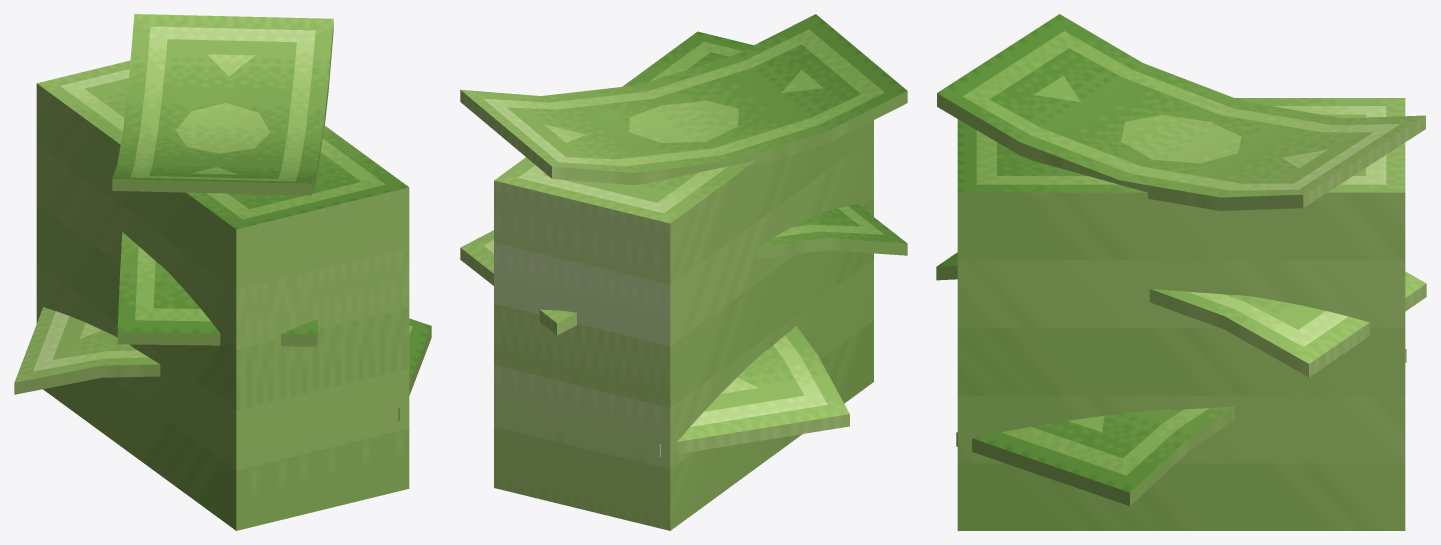
File: Money_Bills_Stack_Medium.gltf
The picture shows the model from 3 angles, left to right: view 1: azimuth 30°, elevation 25°; view 2: azimuth 150°, elevation 25°; view 3: azimuth 270°, elevation 25°; orthographic projection. The views are drawn at different scales.
Parts seen in each view (by area): view 1: Money_Bills_Stack_Medium; view 2: Money_Bills_Stack_Medium; view 3: Money_Bills_Stack_Medium.
Boxes of the visible parts, x1,y1,x2,y2 form: Money_Bills_Stack_Medium: [14, 14, 431, 530]; Money_Bills_Stack_Medium: [460, 14, 907, 530]; Money_Bills_Stack_Medium: [936, 14, 1426, 530].
Size of the model in its own units: 0.6445 by 0.5606 by 0.657.
Materials: 1 (1 with a texture image).
